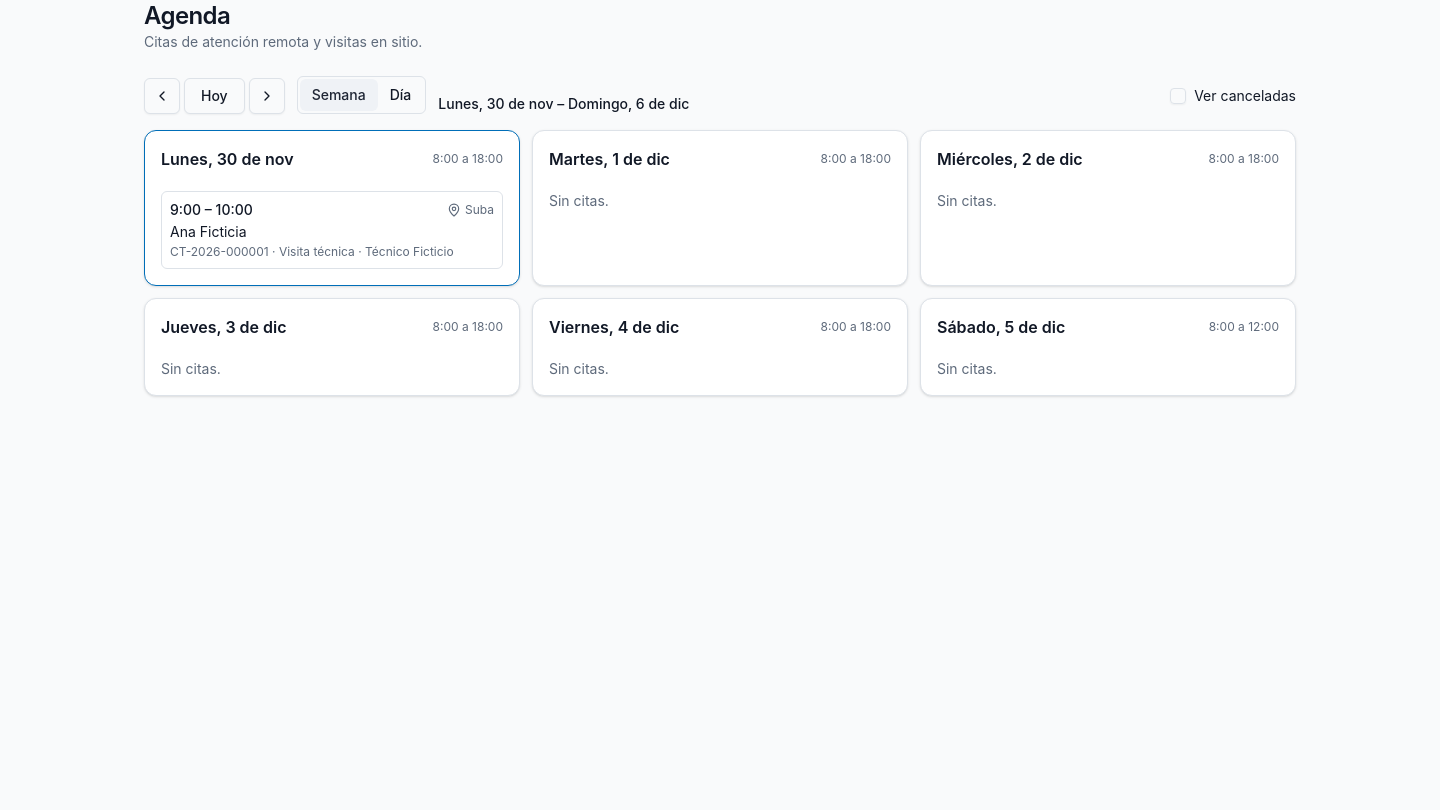
Scenario: AgendaPage › hides scheduling for users who cannot manage the agenda
Click the text "Ana Ficticia".
click(208, 232)  # box [170,223,247,240]
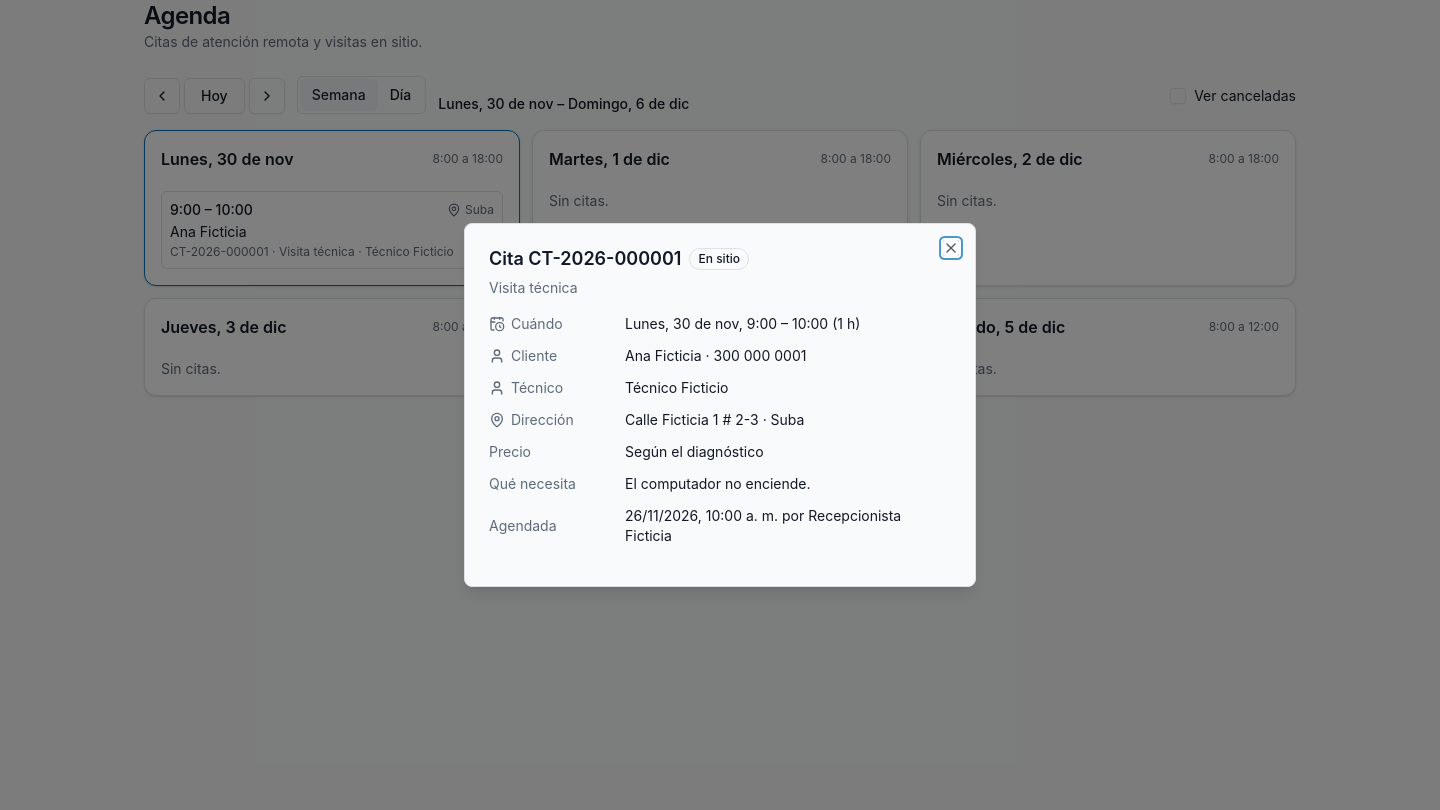
expect the heading "Cita CT-2026-000001 En sitio" is shown: met, box [489,248,749,270]
